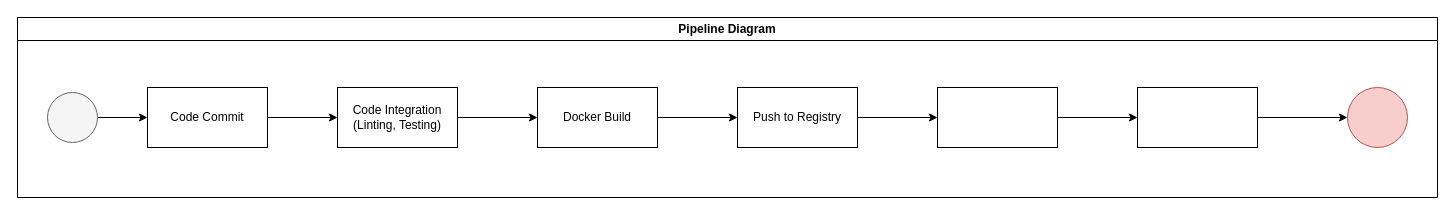
The diagram is 1455 pixels wide and 215 high, and some of its shapes have lost their labels. Each missing label, with the box of its shape:
Deploy to Kubernetes: (936, 86, 1058, 148)
Validate Services: (1136, 86, 1258, 148)
